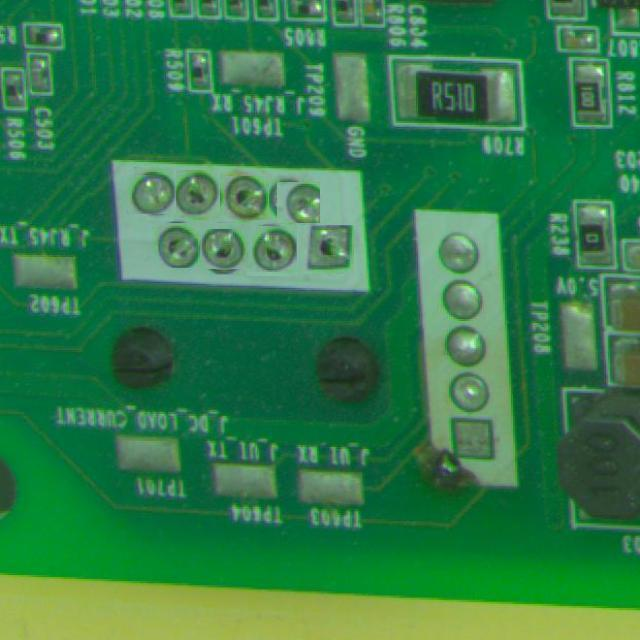lack_of_part: (292, 226, 354, 276), (244, 225, 296, 277), (131, 170, 178, 218), (220, 175, 270, 220), (175, 171, 221, 218), (203, 226, 249, 272), (276, 182, 321, 224), (158, 223, 200, 268)
